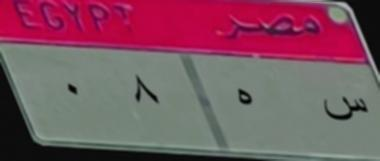0: (61, 73, 84, 105)
8: (128, 68, 162, 119)
haa: (228, 81, 260, 118)
seen: (320, 86, 376, 136)
